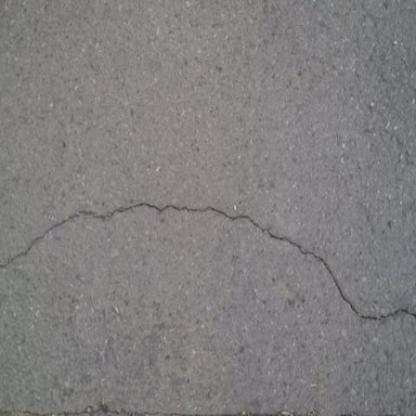Cracks: (0, 193, 415, 330)
